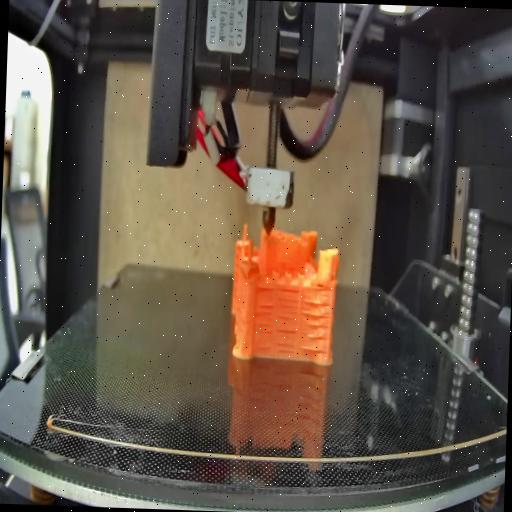cracks: (298, 300, 330, 352), (251, 303, 274, 349), (278, 286, 300, 324), (274, 327, 298, 354), (256, 284, 276, 295)
